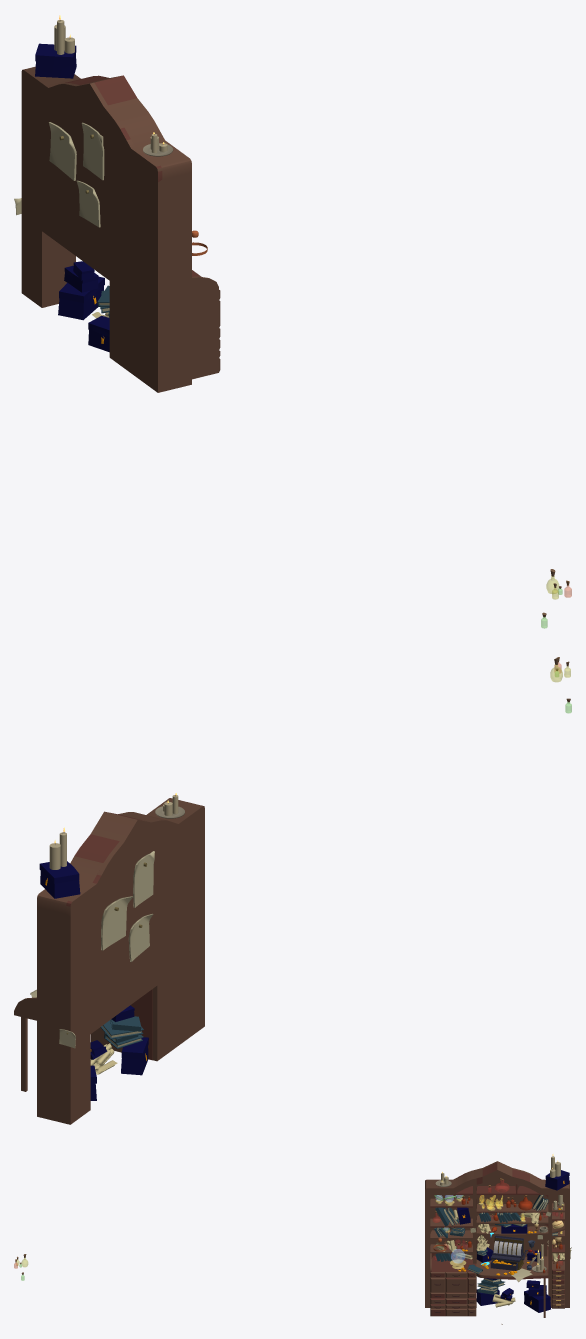
File: cabinet1.glb
The picture shows the model from 3 angles, top to bottom: view 1: azimuth 30°, elevation 25°; view 2: azimuth 150°, elevation 25°; view 3: azimuth 270°, elevation 25°; orthographic projection. The views are drawn at different scales.
Parts seen in each view (by area): view 1: cabinet.002, key_box.002, key_box.020, paper_dot.025, paper_dot.027, paper_dot.026; view 2: cabinet.002, key_box.020, paper_dot.025, books.055, paper_dot.027, key_box.024, paper_dot.026; view 3: cabinet.002, calculator.001, key_box.002, key_box.020, books.055, sphere.004, cabinet.003, key_box.024.
Boxes of the visible parts, x1=… form: cabinet.002: x1=21, y1=66, x2=220, y2=392; key_box.002: x1=58, y1=276, x2=104, y2=320; key_box.020: x1=35, y1=43, x2=76, y2=78; paper_dot.025: x1=48, y1=122, x2=76, y2=180; paper_dot.027: x1=81, y1=122, x2=104, y2=180; paper_dot.026: x1=76, y1=180, x2=100, y2=227; cabinet.002: x1=14, y1=798, x2=204, y2=1124; key_box.020: x1=39, y1=861, x2=80, y2=898; paper_dot.025: x1=101, y1=896, x2=132, y2=950; books.055: x1=100, y1=1016, x2=143, y2=1048; paper_dot.027: x1=133, y1=851, x2=154, y2=907; key_box.024: x1=121, y1=1037, x2=148, y2=1075; paper_dot.026: x1=128, y1=913, x2=153, y2=961; cabinet.002: x1=425, y1=1161, x2=569, y2=1317; calculator.001: x1=490, y1=1235, x2=532, y2=1270; key_box.002: x1=524, y1=1290, x2=550, y2=1312; key_box.020: x1=545, y1=1170, x2=569, y2=1190; books.055: x1=477, y1=1278, x2=504, y2=1294; sphere.004: x1=450, y1=1249, x2=466, y2=1269; cabinet.003: x1=434, y1=1271, x2=561, y2=1312; key_box.024: x1=476, y1=1289, x2=499, y2=1305.
Bounding box in the file's own units: 1.16 × 3.01 × 10.
